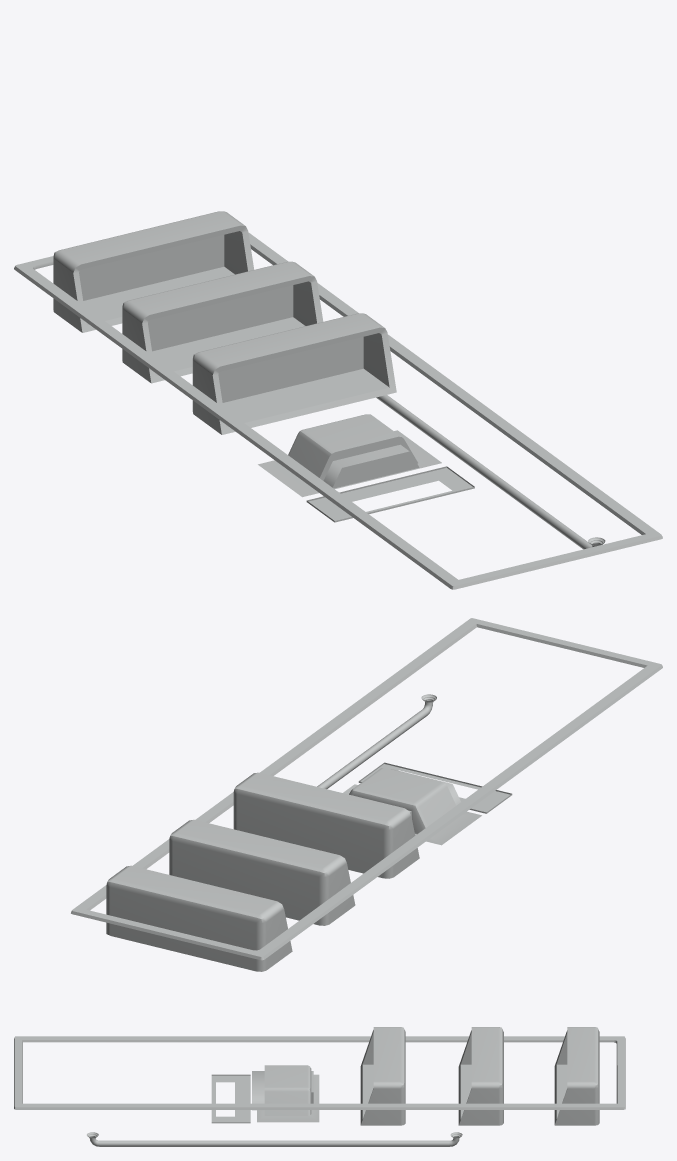
File: MeshFridgeFreezerdoorD3_2_GeomSubset_1.obj
3 views of the same model, one above another, from view 1: azimuth 30°, elevation 25°; view 2: azimuth 150°, elevation 25°; view 3: azimuth 270°, elevation 25° (orthographic). The views are drawn at different scales.
Parts seen in each view (by area): view 1: MeshFridgeFreezerdoorD3_2_GeomSubset_1; view 2: MeshFridgeFreezerdoorD3_2_GeomSubset_1; view 3: MeshFridgeFreezerdoorD3_2_GeomSubset_1.
Boxes of the visible parts, box(x1,y1,x2,y2) form: MeshFridgeFreezerdoorD3_2_GeomSubset_1: box(14, 211, 662, 589); MeshFridgeFreezerdoorD3_2_GeomSubset_1: box(71, 618, 662, 971); MeshFridgeFreezerdoorD3_2_GeomSubset_1: box(14, 1027, 625, 1146).
Bounding box in the file's own units: 0.4646 × 0.4197 × 1.53.
